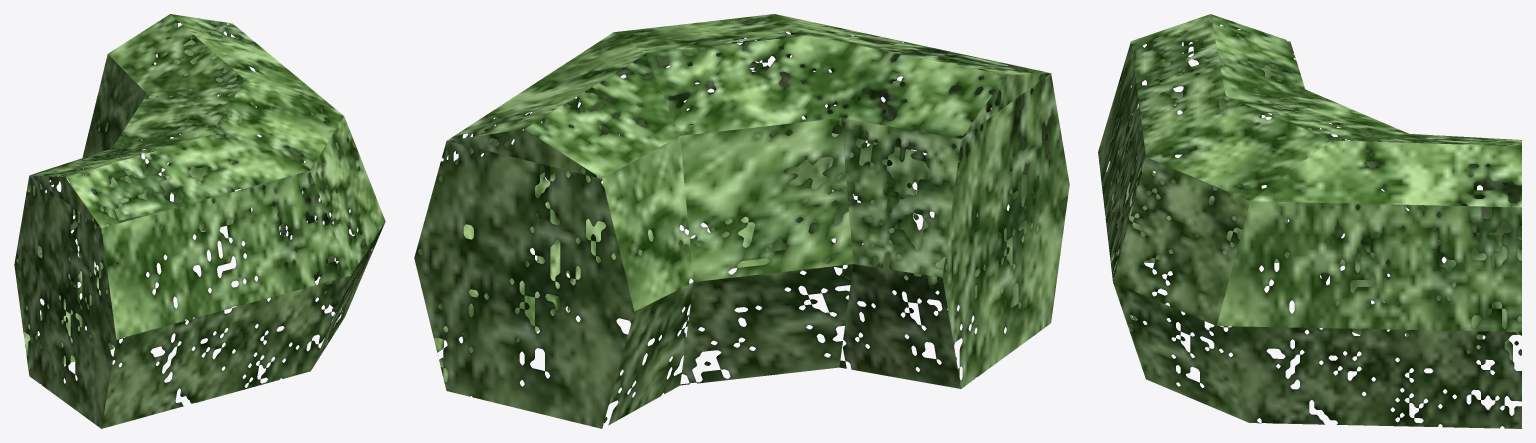
Rendered from bush_round_corner_summer.fbx.
The picture shows the model from 3 angles, left to right: view 1: azimuth 30°, elevation 25°; view 2: azimuth 150°, elevation 25°; view 3: azimuth 270°, elevation 25°; orthographic projection. The views are drawn at different scales.
Visible parts, largest first — view 1: bush_round_corner_summer; view 2: bush_round_corner_summer; view 3: bush_round_corner_summer.
Boxes of the visible parts, <box> form: bush_round_corner_summer: <box>14,14,385,428</box>; bush_round_corner_summer: <box>414,14,1069,428</box>; bush_round_corner_summer: <box>1098,14,1521,428</box>.
Size of the model in its own units: 136 by 87.65 by 135.
Materials: 1 (1 with a texture image).
